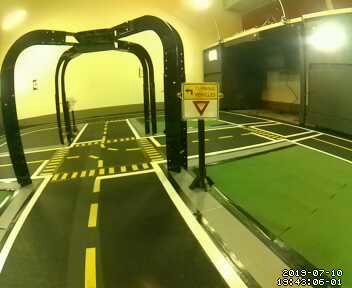Turn Yield: (182, 82, 219, 120)
